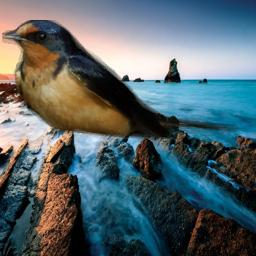Swallow: (2, 20, 241, 139)
